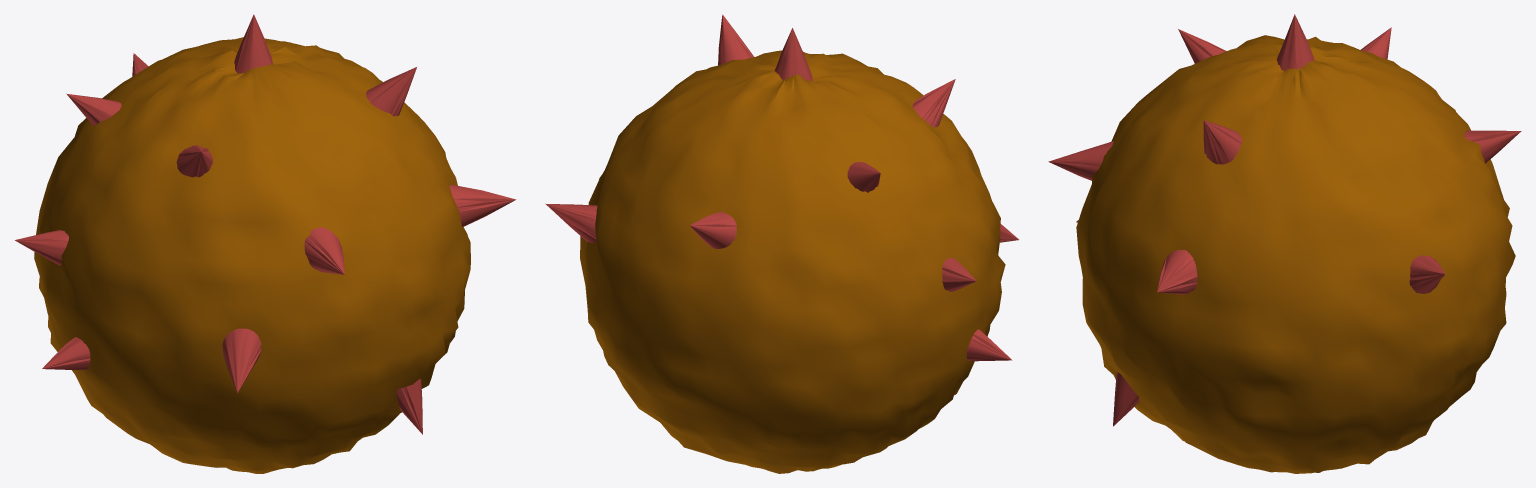
The model's file is ROnce.fbx.
3 renders of one model, left to right at view 1: azimuth 30°, elevation 25°; view 2: azimuth 150°, elevation 25°; view 3: azimuth 270°, elevation 25°, orthographic. The views are drawn at different scales.
Parts seen in each view (by area): view 1: ronce, pic.001; view 2: ronce, pic.001; view 3: ronce, pic.001.
Part boxes in pixels (x1,y1,x2,y2): ronce: (34,37,470,473); pic.001: (15,14,516,434); ronce: (580,50,1005,473); pic.001: (545,14,1018,361); ronce: (1076,35,1515,473); pic.001: (1048,14,1521,426).
Bounding box in the file's own units: 221 × 224 × 218.
